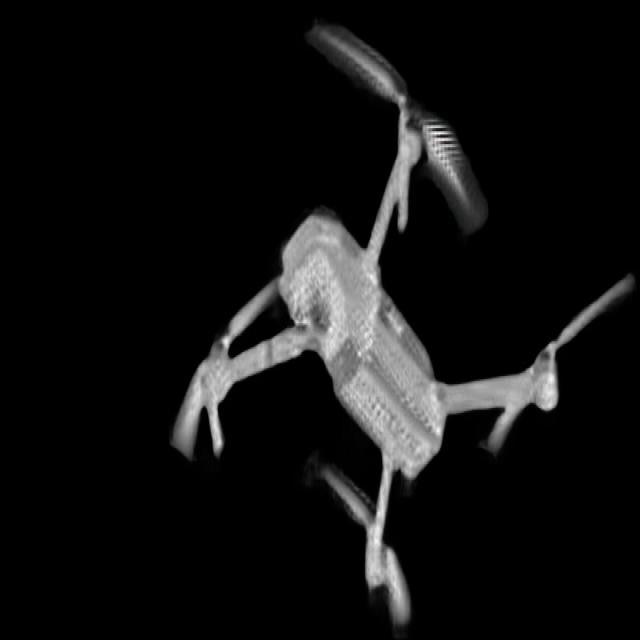drone: (166, 8, 640, 640)
